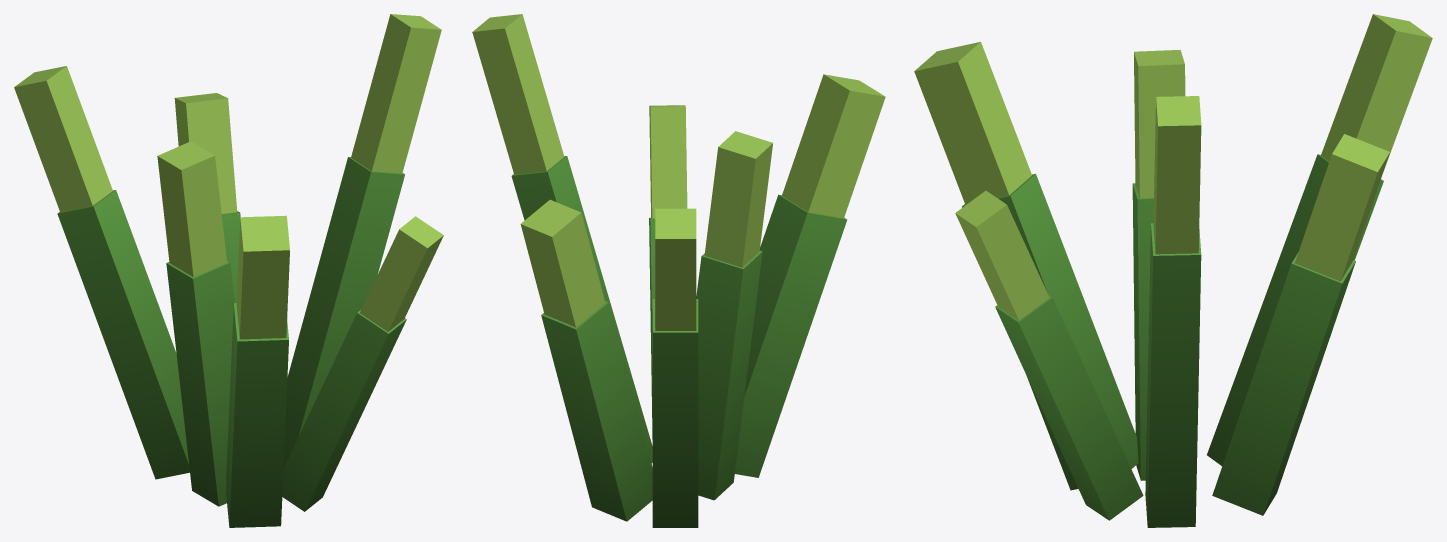
The model's file is B03_grass_tall.glb.
3 views of the same model, side by side, from view 1: azimuth 30°, elevation 25°; view 2: azimuth 150°, elevation 25°; view 3: azimuth 270°, elevation 25° (orthographic). The views are drawn at different scales.
Visible parts, largest first — view 1: B03_grass_tall; view 2: B03_grass_tall; view 3: B03_grass_tall.
Part boxes in pixels (left/top/right/bottom): B03_grass_tall: left=14, top=14, right=443, bottom=527; B03_grass_tall: left=472, top=14, right=885, bottom=527; B03_grass_tall: left=914, top=14, right=1432, bottom=527.
Bounding box in the file's own units: 0.6724 × 0.873 × 0.8438.
